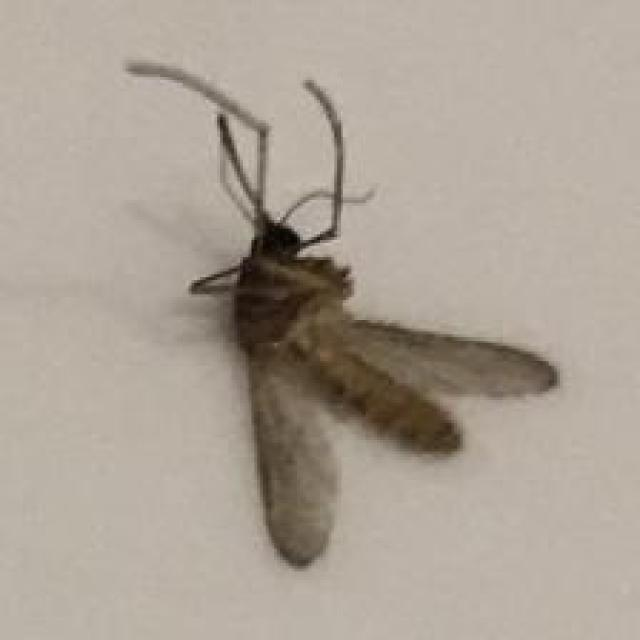Culex: (123, 57, 560, 569)
